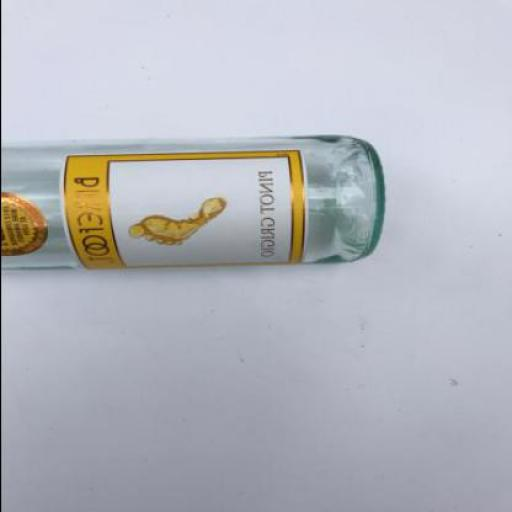glass: (1, 133, 384, 268)
